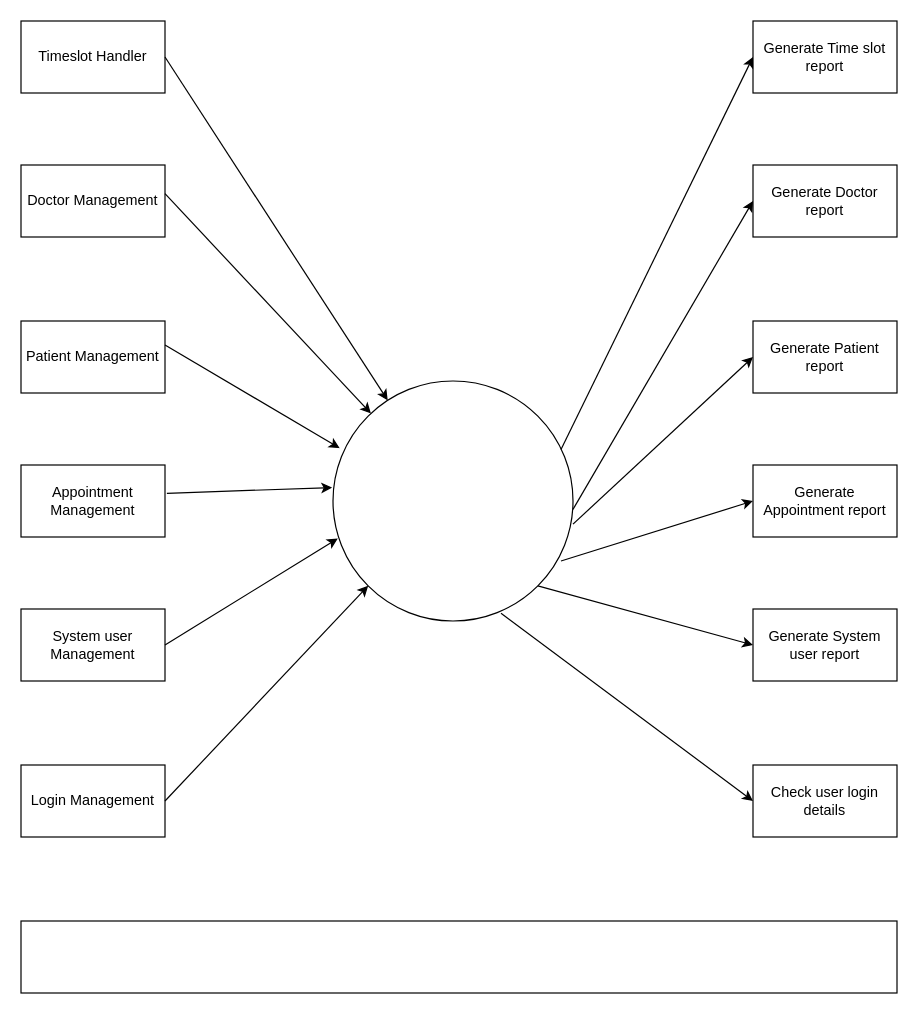
The diagram is 918 pixels wide and 1014 high, and some of its shapes have lost their labels. The centre of each missing label's shape, as x and y in pixels:
"Data Flow Diagram" belongs at [458,956].
"Medical Appointment System" belongs at [452,500].
